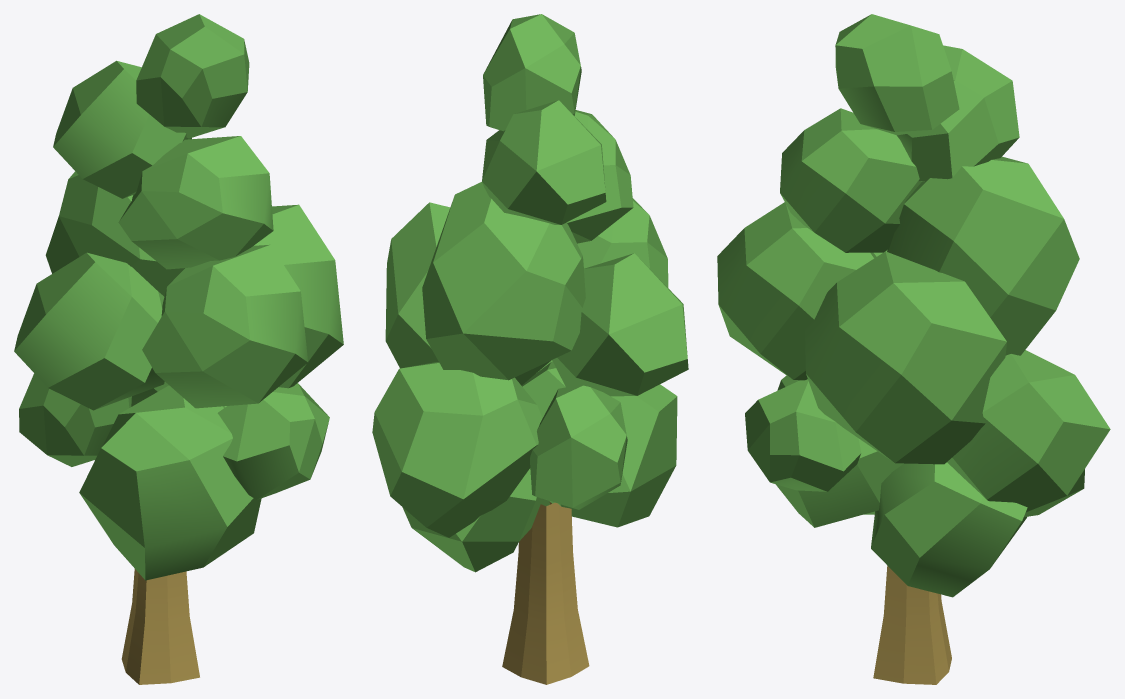
File: tree_1.fbx
3 views of the same model, side by side, from view 1: azimuth 30°, elevation 25°; view 2: azimuth 150°, elevation 25°; view 3: azimuth 270°, elevation 25° (orthographic). The views are drawn at different scales.
Visible parts, largest first — view 1: Trees:polySurface280; view 2: Trees:polySurface280; view 3: Trees:polySurface280.
Part boxes in pixels (x1=…): Trees:polySurface280: x1=14, y1=14, x2=343, y2=684; Trees:polySurface280: x1=372, y1=14, x2=688, y2=684; Trees:polySurface280: x1=717, y1=14, x2=1110, y2=684.
Bounding box in the file's own units: 148 × 292 × 156.
